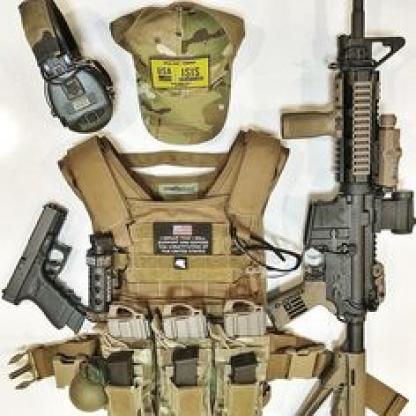Grenade: (86, 230, 124, 314), (68, 357, 109, 412)
Gun: (266, 0, 416, 416)
Pistol: (0, 200, 87, 334)
